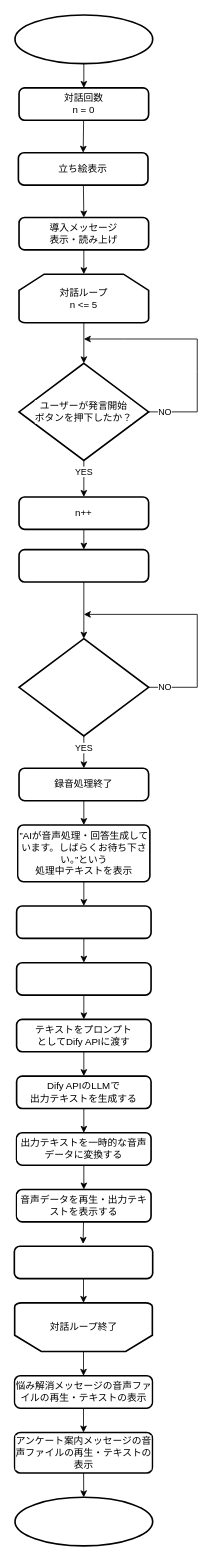
Image size: 219x1560. Some labels were removed from this diagram. Here are the shapes that lost their labels. From the top down, the centre of each, then its label:
At [83,39]: "開始".
At [83,565]: "録音処理開始".
At [83,686]: "ユーザが発言終了 ボタンを押下したか？".
At [83,922]: "録音内容を 音声ファイルに変換".
At [83,978]: "音声ファイルをテキスト化".
At [83,1262]: "処理中テキストを非表示".
At [83,1521]: "終了".
